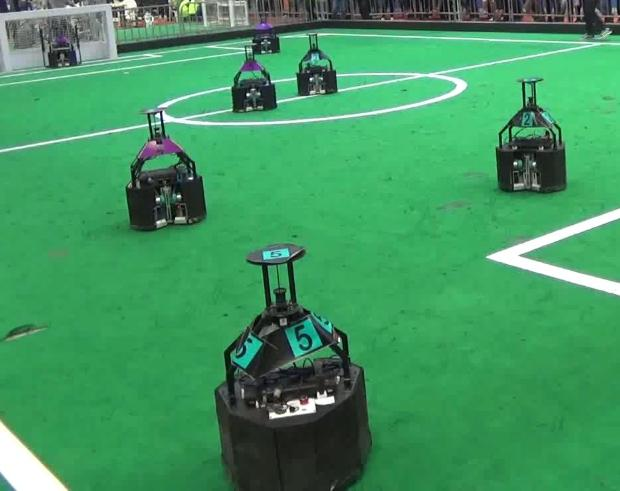robot: (204, 232, 376, 490), (120, 106, 213, 231), (493, 73, 569, 196), (226, 40, 280, 112), (293, 26, 344, 98)
